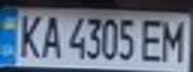0: (103, 15, 121, 62)
3: (84, 14, 103, 61)
4: (63, 12, 87, 60)
5: (118, 15, 139, 63)
A: (36, 11, 63, 60)
E: (136, 16, 169, 63)
K: (12, 11, 45, 60)
M: (157, 17, 190, 63)
